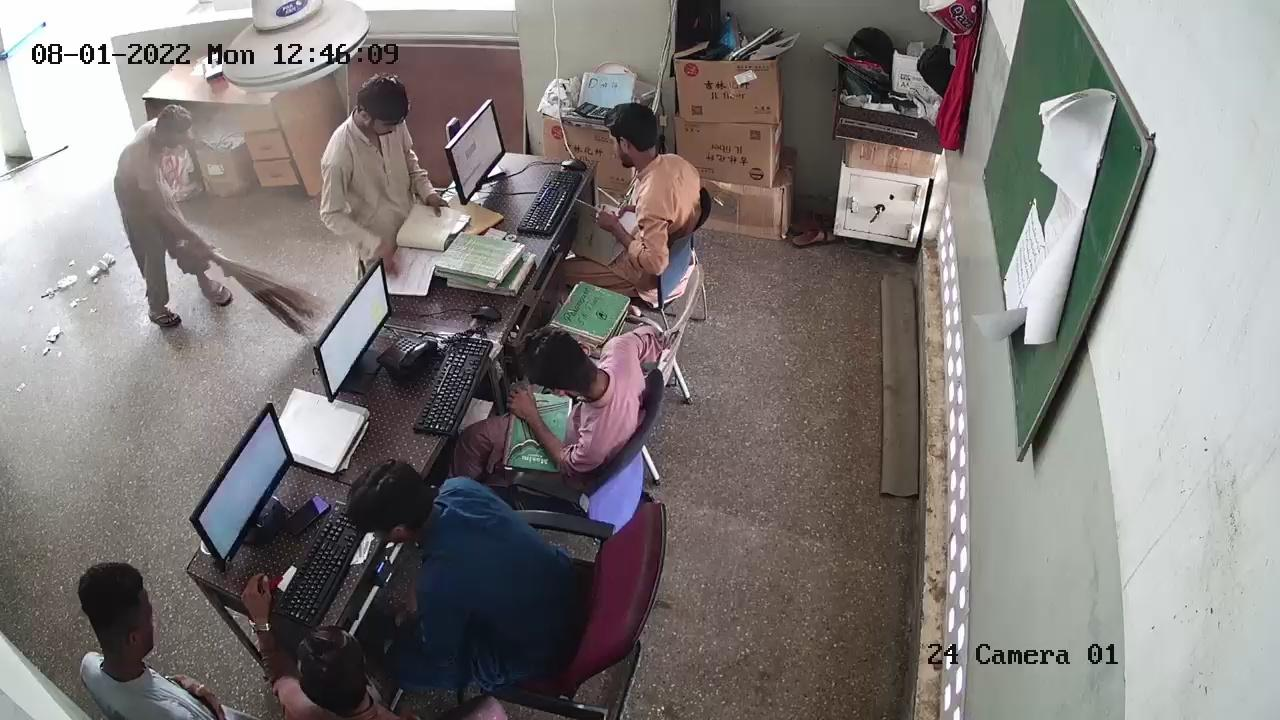person: (366, 468, 565, 677), (84, 572, 210, 720), (606, 112, 707, 288), (501, 335, 634, 460), (330, 78, 417, 260), (132, 108, 186, 318), (277, 640, 410, 720)
